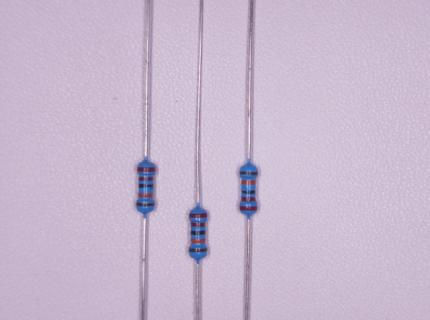Black band: (191, 230, 206, 235), (139, 184, 154, 189), (242, 190, 255, 194)
Brown band: (136, 202, 154, 207), (189, 248, 207, 253), (240, 171, 258, 175)
Orange band: (191, 238, 206, 244), (242, 180, 256, 184), (139, 193, 152, 197)
Red band: (191, 222, 206, 228), (189, 214, 207, 218), (138, 167, 155, 171), (240, 206, 257, 210), (241, 197, 256, 201), (139, 177, 153, 181)
